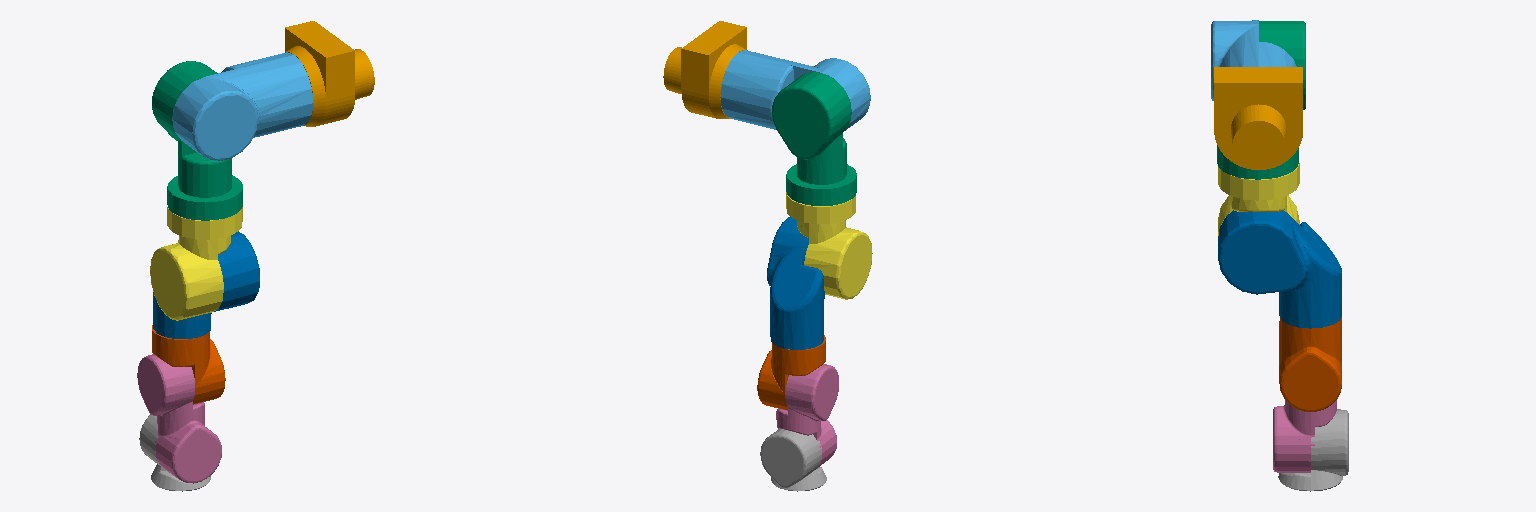
URDF robot description (ballbotArm):
<?xml version="1.0" ?>
<!-- =================================================================================== -->
<!-- |    This document was autogenerated by xacro from robots/arm_7dof.urdf.xacro     | -->
<!-- |    EDITING THIS FILE BY HAND IS NOT RECOMMENDED                                 | -->
<!-- =================================================================================== -->
<robot name="ballbotArm" xmlns:xacro="http://ros.org/wiki/xacro">
  <material name="yellow">
    <color rgba="1 1 0 1"/>
  </material>
  <!-- Use of macros to assemble the robot -->
  <link name="base_link">
    <visual>
      <origin rpy="0 1.5707963268 3.14159265359" xyz="0 0 0"/>
      <geometry>
        <mesh filename="package://ballbot_arm_description/meshes/link_base.stl"/>
      </geometry>
    </visual>
    <collision>
      <origin rpy="0 1.5707963268 3.14159265359" xyz="0 0 0"/>
      <geometry>
        <mesh filename="package://ballbot_arm_description/meshes/link_base.stl"/>
      </geometry>
    </collision>
  </link>
  <joint name="shoulder_1_joint" type="revolute">
    <origin rpy="1.5707963268 0 -1.5707963268" xyz="0 0 0"/>
    <axis xyz="0 0 1"/>
    <limit effort="30" lower="-3.14159265359" upper="3.14159265359" velocity="1.0"/>
    <parent link="base_link"/>
    <child link="shoulder_2_base_link"/>
  </joint>
  <link name="shoulder_2_base_link">
    <visual>
      <origin rpy="0 1.5707963268 3.14159265359" xyz="0 0 0"/>
      <geometry>
        <mesh filename="package://ballbot_arm_description/meshes/link_shoulder_2_base.stl"/>
      </geometry>
    </visual>
    <collision>
      <origin rpy="0 1.5707963268 3.14159265359" xyz="0 0 0"/>
      <geometry>
        <mesh filename="package://ballbot_arm_description/meshes/link_shoulder_2_base.stl"/>
      </geometry>
    </collision>
  </link>
  <joint name="shoulder_2_joint" type="revolute">
    <origin rpy="0 -1.5707963268 0" xyz="0 0 0.15"/>
    <axis xyz="0 0 1"/>
    <limit effort="30" lower="-1.5707963268" upper="1.5707963268" velocity="1.0"/>
    <parent link="shoulder_2_base_link"/>
    <child link="shoulder_2_uparm_link"/>
  </joint>
  <link name="shoulder_2_uparm_link">
    <visual>
      <origin rpy="3.14159265359 0 1.5707963268" xyz="0 0 0"/>
      <geometry>
        <mesh filename="package://ballbot_arm_description/meshes/link_shoulder_2_uparm.stl"/>
      </geometry>
    </visual>
    <collision>
      <origin rpy="3.14159265359 0 1.5707963268" xyz="0 0 0"/>
      <geometry>
        <mesh filename="package://ballbot_arm_description/meshes/link_shoulder_2_uparm.stl"/>
      </geometry>
    </collision>
  </link>
  <joint name="shoulder_3_joint" type="revolute">
    <origin rpy="-1.5707963268 0 0" xyz="0 -0.150683 0"/>
    <axis xyz="0 0 1"/>
    <limit effort="30" lower="-3.14159265359" upper="3.14159265359" velocity="1.0"/>
    <parent link="shoulder_2_uparm_link"/>
    <child link="uparm_link"/>
  </joint>
  <link name="uparm_link">
    <visual>
      <origin rpy="0 0 1.5707963268" xyz="0 0 0"/>
      <geometry>
        <mesh filename="package://ballbot_arm_description/meshes/link_uparm.stl"/>
      </geometry>
    </visual>
    <collision>
      <origin rpy="0 0 1.5707963268" xyz="0 0 0"/>
      <geometry>
        <mesh filename="package://ballbot_arm_description/meshes/link_uparm.stl"/>
      </geometry>
    </collision>
  </link>
  <joint name="elbow_joint" type="revolute">
    <origin rpy="0 1.5707963268 0" xyz="0 0 -0.112431"/>
    <axis xyz="0 0 1"/>
    <limit effort="30" lower="0" upper="2.26892802759" velocity="1.0"/>
    <parent link="uparm_link"/>
    <child link="forearm_link"/>
  </joint>
  <link name="forearm_link">
    <visual>
      <origin rpy="0 0 0" xyz="0 0 0"/>
      <geometry>
        <mesh filename="package://ballbot_arm_description/meshes/link_forearm.stl"/>
      </geometry>
    </visual>
    <collision>
      <origin rpy="0 0 0" xyz="0 0 0"/>
      <geometry>
        <mesh filename="package://ballbot_arm_description/meshes/link_forearm.stl"/>
      </geometry>
    </collision>
  </link>
  <joint name="wrist_1_joint" type="revolute">
    <origin rpy="0 -1.5707963268 0" xyz="0.112 -0.07 0"/>
    <axis xyz="0 0 1"/>
    <limit effort="30" lower="-3.14159265359" upper="3.14159265359" velocity="1.0"/>
    <parent link="forearm_link"/>
    <child link="forearm_2_wrist_link"/>
  </joint>
  <link name="forearm_2_wrist_link">
    <visual>
      <origin rpy="0 0 0" xyz="0 0 0"/>
      <geometry>
        <mesh filename="package://ballbot_arm_description/meshes/link_forearm_2_wrist.stl"/>
      </geometry>
    </visual>
    <collision>
      <origin rpy="0 0 0" xyz="0 0 0"/>
      <geometry>
        <mesh filename="package://ballbot_arm_description/meshes/link_forearm_2_wrist.stl"/>
      </geometry>
    </collision>
  </link>
  <joint name="wrist_2_joint" type="revolute">
    <origin rpy="0 -1.5707963268 0" xyz="0 0 -0.08"/>
    <axis xyz="0 0 1"/>
    <limit effort="30" lower="-1.5707963268" upper="1.5707963268" velocity="1.0"/>
    <parent link="forearm_2_wrist_link"/>
    <child link="wrist_mid_link"/>
  </joint>
  <link name="wrist_mid_link">
    <visual>
      <origin rpy="0 0 0" xyz="0 0 0"/>
      <geometry>
        <mesh filename="package://ballbot_arm_description/meshes/link_wrist_mid.stl"/>
      </geometry>
    </visual>
    <collision>
      <origin rpy="0 0 0" xyz="0 0 0"/>
      <geometry>
        <mesh filename="package://ballbot_arm_description/meshes/link_wrist_mid.stl"/>
      </geometry>
    </collision>
  </link>
  <joint name="wrist_3_joint" type="revolute">
    <origin rpy="-1.5707963268 0 0" xyz="-0.107616 0 0"/>
    <axis xyz="0 0 1"/>
    <limit effort="30" lower="-1.5707963268" upper="1.5707963268" velocity="1.0"/>
    <parent link="wrist_mid_link"/>
    <child link="wrist_2_hand_link"/>
  </joint>
  <link name="wrist_2_hand_link">
    <visual>
      <origin rpy="0 0 0" xyz="0 0 0"/>
      <geometry>
        <mesh filename="package://ballbot_arm_description/meshes/link_wrist_2_hand.stl"/>
      </geometry>
    </visual>
    <collision>
      <origin rpy="0 0 0" xyz="0 0 0"/>
      <geometry>
        <mesh filename="package://ballbot_arm_description/meshes/link_wrist_2_hand.stl"/>
      </geometry>
    </collision>
  </link>
  <!-- Right  Barrett Hand B282
      <xacro:bhand_macro name="r_bh" parent="r_wrist_2_hand_link">
         <origin xyz="0.055 0 0" rpy="0 ${PI/2} 0" />
      </xacro:bhand_macro>-->
</robot>

--- What the picture shows (computed from the rendered views, not written in the file) ---
3 views of the same robot in one strip: view 1: azimuth 30°, elevation 25°; view 2: azimuth 150°, elevation 25°; view 3: azimuth 270°, elevation 25° (orthographic).
Model ballbotArm with 8 links and 7 joints (7 revolute), rooted at base_link, posed all joints at 0.
Visible links, largest first — view 1: shoulder_2_base_link, uparm_link, wrist_mid_link, shoulder_2_uparm_link, base_link, forearm_link, forearm_2_wrist_link, wrist_2_hand_link; view 2: shoulder_2_uparm_link, shoulder_2_base_link, forearm_link, uparm_link, base_link, wrist_mid_link, wrist_2_hand_link, forearm_2_wrist_link; view 3: forearm_link, base_link, forearm_2_wrist_link, shoulder_2_base_link, wrist_2_hand_link, wrist_mid_link, uparm_link, shoulder_2_uparm_link.
Link boxes in pixels (box(x1,y1,x2,y2)): shoulder_2_base_link: box(172, 52, 312, 160); uparm_link: box(150, 207, 242, 320); wrist_mid_link: box(137, 354, 221, 483); shoulder_2_uparm_link: box(152, 61, 242, 220); base_link: box(285, 21, 374, 126); forearm_link: box(153, 231, 259, 338); forearm_2_wrist_link: box(152, 325, 225, 404); wrist_2_hand_link: box(139, 414, 210, 491); shoulder_2_uparm_link: box(772, 72, 856, 205); shoulder_2_base_link: box(720, 50, 870, 130); forearm_link: box(767, 216, 824, 349); uparm_link: box(786, 192, 872, 299); base_link: box(663, 21, 747, 118); wrist_mid_link: box(776, 364, 838, 466); wrist_2_hand_link: box(760, 429, 826, 491); forearm_2_wrist_link: box(757, 335, 825, 410); forearm_link: box(1218, 210, 1341, 328); base_link: box(1214, 67, 1302, 169); forearm_2_wrist_link: box(1279, 317, 1341, 411); shoulder_2_base_link: box(1211, 20, 1296, 100); wrist_2_hand_link: box(1278, 409, 1348, 491); wrist_mid_link: box(1273, 400, 1336, 472); uparm_link: box(1218, 163, 1299, 235); shoulder_2_uparm_link: box(1217, 21, 1305, 179).
Size in the robot's own frame: 0.3269 by 0.1842 by 0.6877 metres.
Meshes: 8 distinct files referenced, 8 mesh visuals loaded (8 binary STL).
